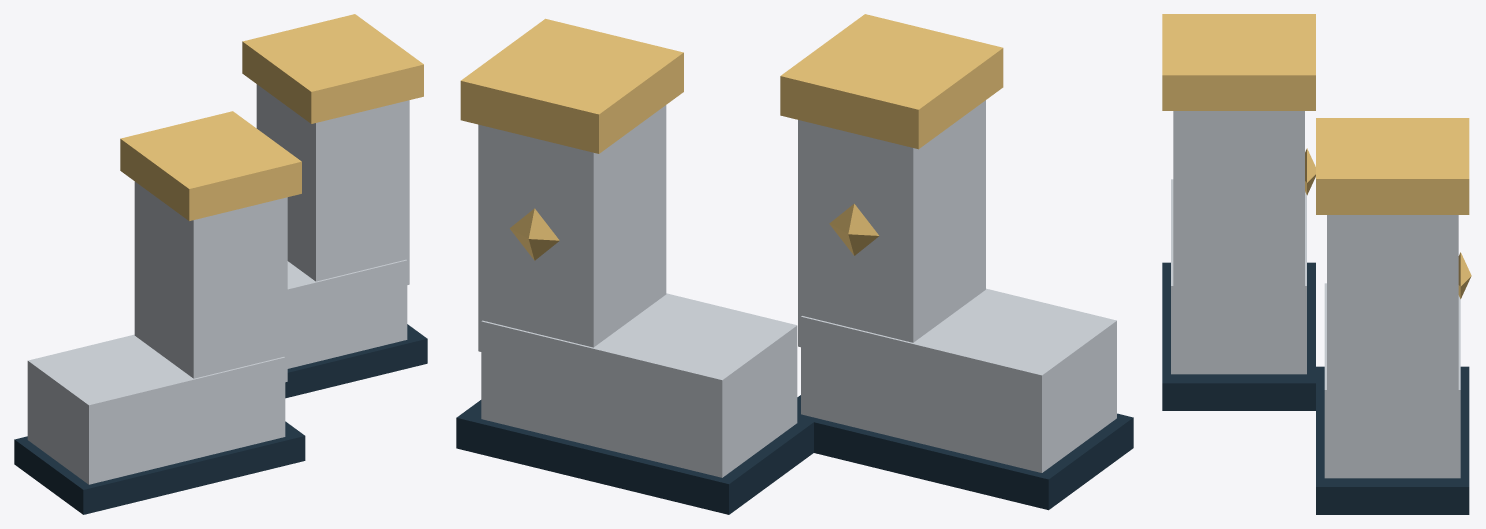
File: Boots.obj
The picture shows the model from 3 angles, left to right: view 1: azimuth 30°, elevation 25°; view 2: azimuth 150°, elevation 25°; view 3: azimuth 270°, elevation 25°; orthographic projection. The views are drawn at different scales.
Size of the model in its own units: 2.42 by 1.68 by 1.41.
